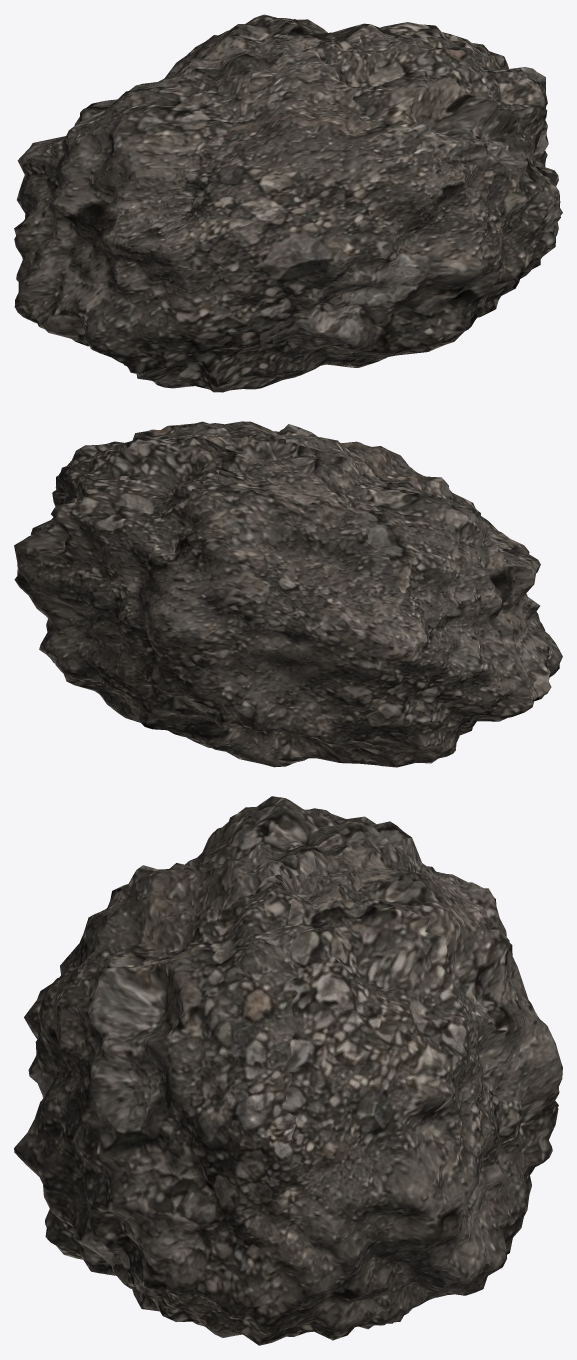
File: asteroid-2.glb
The picture shows the model from 3 angles, top to bottom: view 1: azimuth 30°, elevation 25°; view 2: azimuth 150°, elevation 25°; view 3: azimuth 270°, elevation 25°; orthographic projection. The views are drawn at different scales.
Visible parts, largest first — view 1: asteroid-2; view 2: asteroid-2; view 3: asteroid-2.
Part boxes in pixels (bbox=[...]): asteroid-2: bbox=[14, 14, 562, 392]; asteroid-2: bbox=[14, 421, 562, 767]; asteroid-2: bbox=[14, 796, 562, 1345].
Bounding box in the file's own units: 1.94 × 1.02 × 1.31.
1 material, 1 textured.
